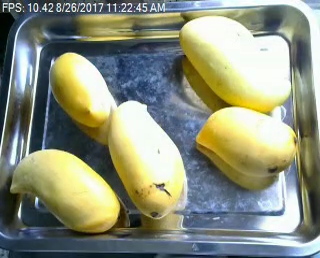Mango: (180, 13, 291, 109), (9, 148, 120, 234), (106, 100, 185, 217), (196, 106, 298, 174), (49, 51, 112, 126)
